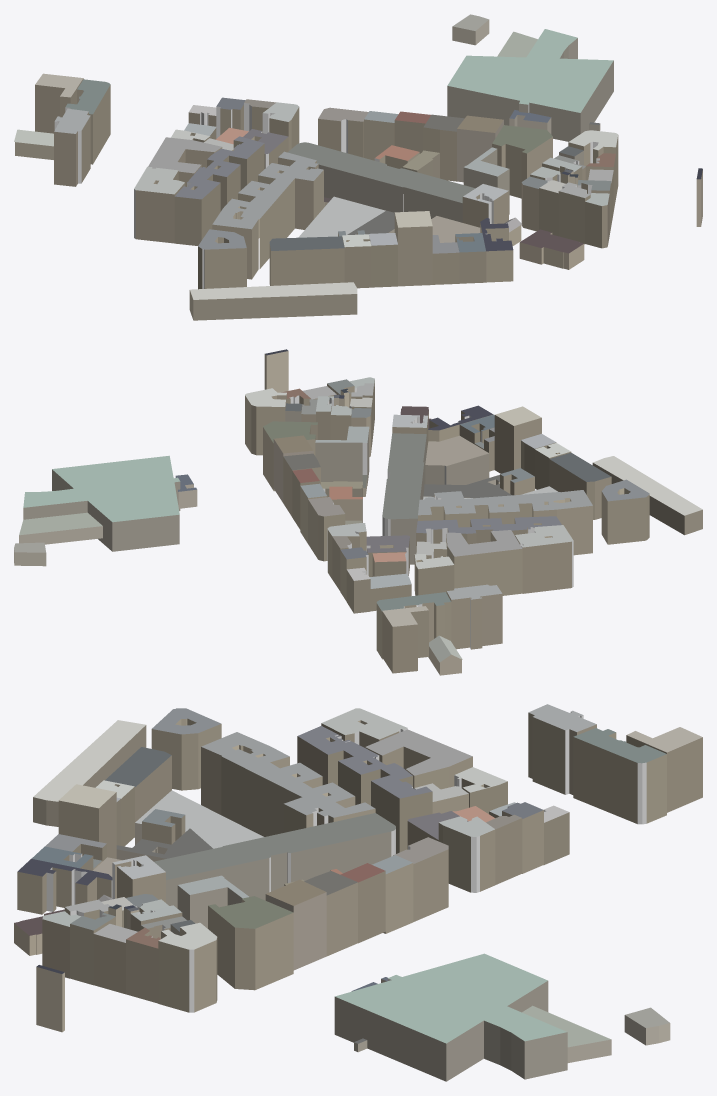
The picture shows the model from 3 angles, top to bottom: view 1: azimuth 30°, elevation 25°; view 2: azimuth 150°, elevation 25°; view 3: azimuth 270°, elevation 25°; orthographic projection. The views are drawn at different scales.
Visible parts, largest first — view 1: tuile; view 2: tuile; view 3: tuile.
Boxes of the visible parts, left/top/right/bottom form: tuile: left=14, top=14, right=702, bottom=320; tuile: left=14, top=349, right=702, bottom=675; tuile: left=14, top=704, right=702, bottom=1081.
Size of the model in its own units: 300 by 36.17 by 265.
